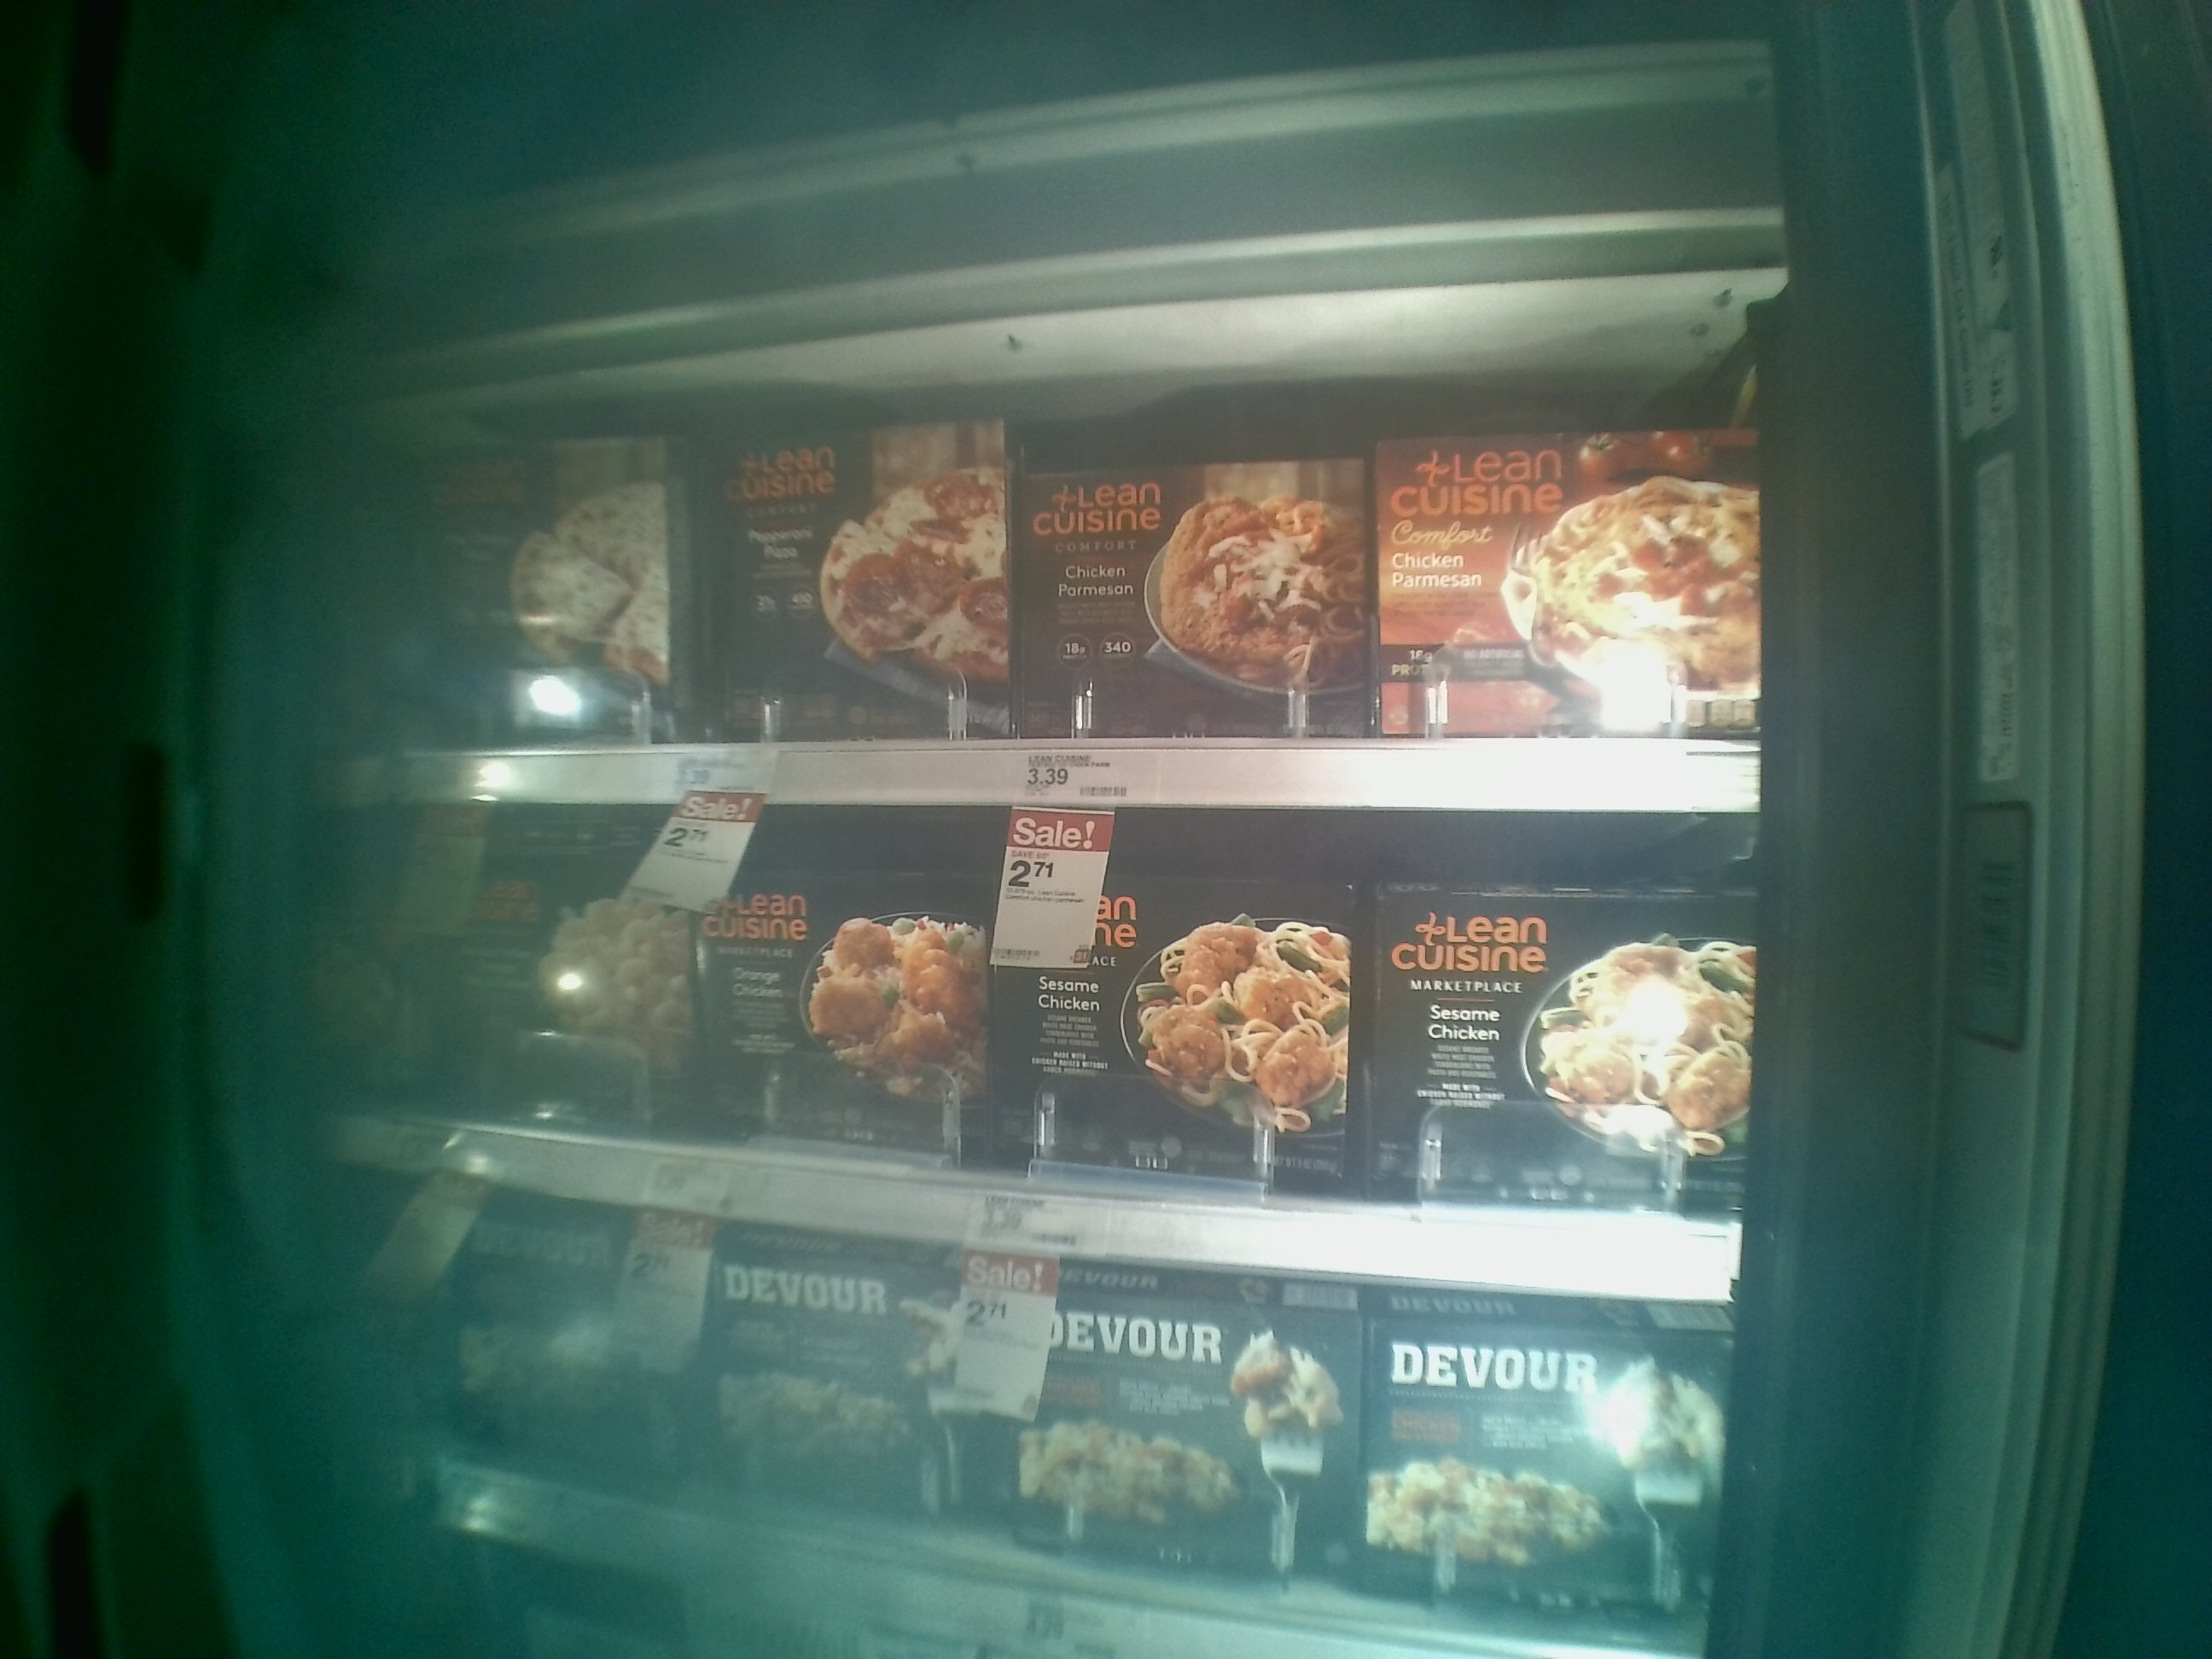shelf: (336, 319, 1757, 809), (334, 812, 1742, 1297)
